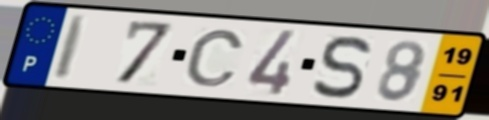4: (244, 26, 299, 99)
7: (117, 18, 179, 87)
8: (373, 38, 428, 104)
C: (182, 27, 248, 89)
I: (50, 14, 92, 83)
S: (309, 34, 375, 101)
